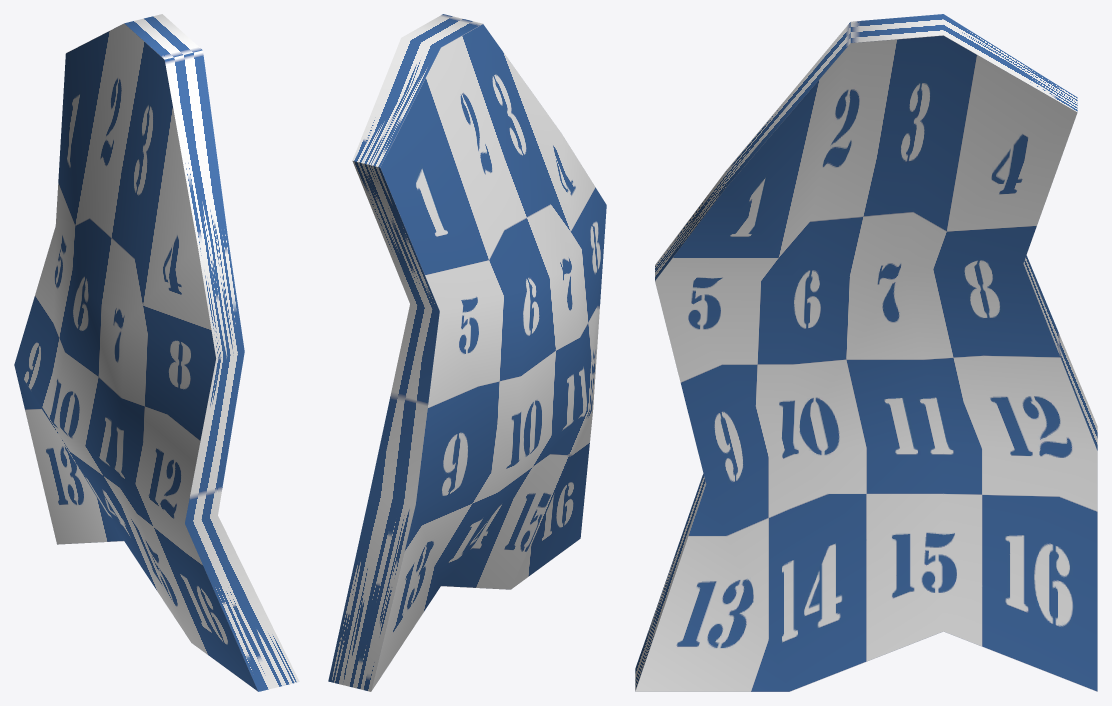
File: Enmu_Parts1.fbx
The picture shows the model from 3 angles, left to right: view 1: azimuth 30°, elevation 25°; view 2: azimuth 150°, elevation 25°; view 3: azimuth 270°, elevation 25°; orthographic projection. The views are drawn at different scales.
Visible parts, largest first — view 1: SM_e_Plc_P1011_Parts001; view 2: SM_e_Plc_P1011_Parts001; view 3: SM_e_Plc_P1011_Parts001.
Part boxes in pixels (x1,y1,x2,y2): SM_e_Plc_P1011_Parts001: (14, 14, 299, 691); SM_e_Plc_P1011_Parts001: (328, 14, 606, 691); SM_e_Plc_P1011_Parts001: (635, 14, 1097, 691).
Size of the model in its own units: 6.27 by 30 by 19.2.
